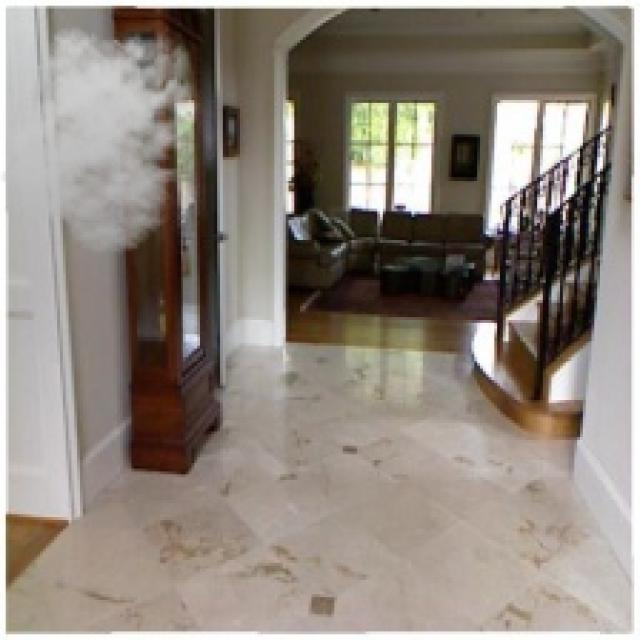smoke: (0, 20, 206, 254)
